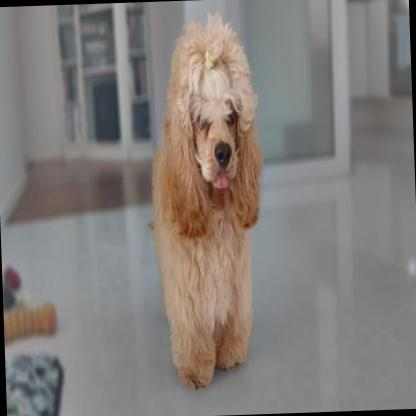cocker_spaniel: (146, 4, 267, 391)
